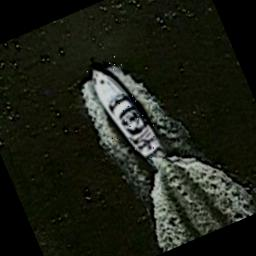boat: (82, 52, 166, 169)
